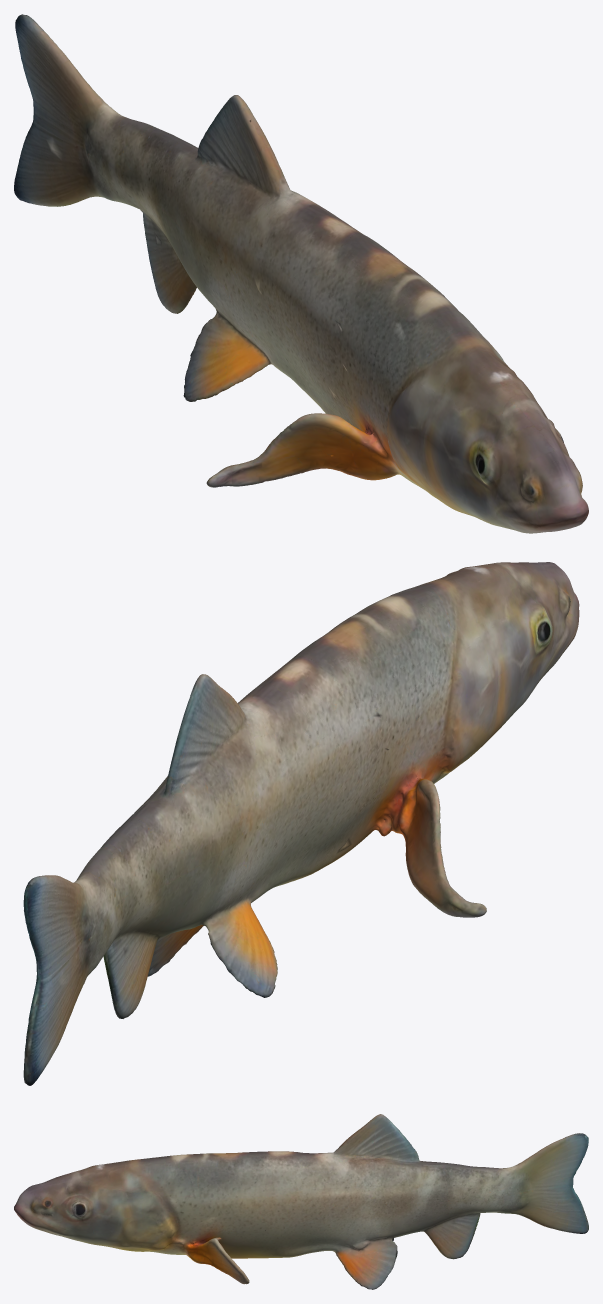
File: ryba.glb
The picture shows the model from 3 angles, top to bottom: view 1: azimuth 30°, elevation 25°; view 2: azimuth 150°, elevation 25°; view 3: azimuth 270°, elevation 25°; orthographic projection. The views are drawn at different scales.
Bounding box in the file's own units: 0.5362 × 0.6178 × 2.
Materials: 1 (1 with a texture image).
